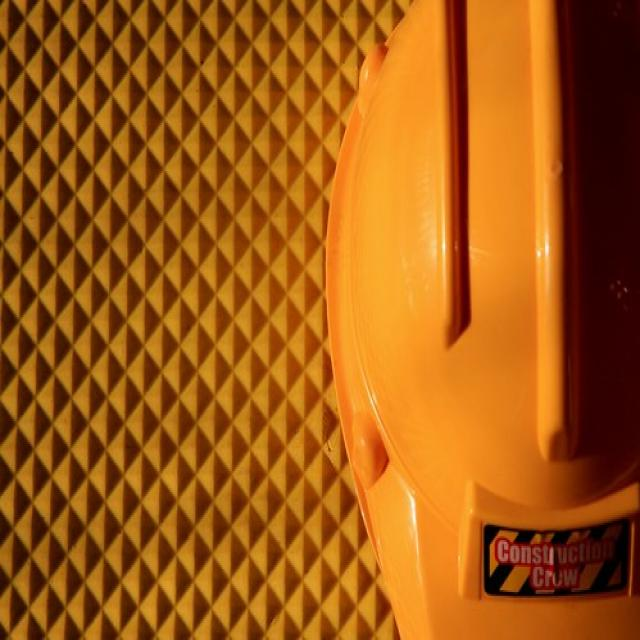Safety-Helmet: (305, 0, 639, 628)
